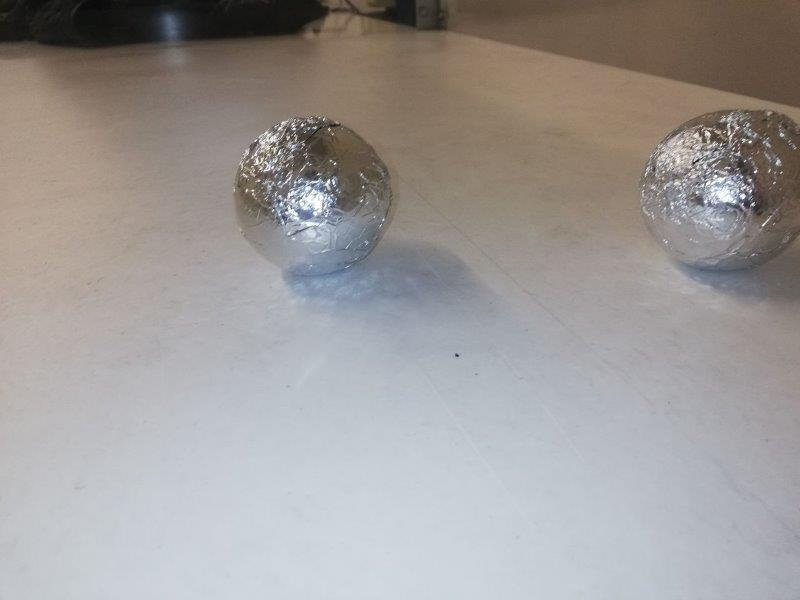bianca: (228, 116, 400, 277), (642, 105, 797, 279)
